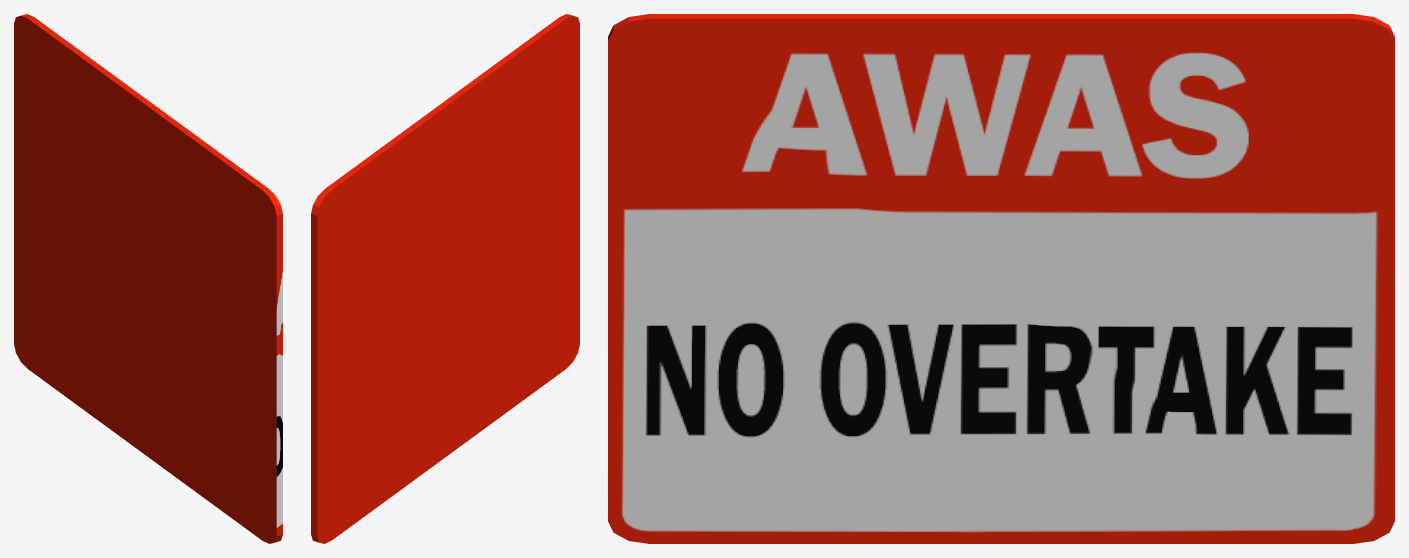
The model's file is noovertake 2.fbx.
3 views of the same model, side by side, from view 1: azimuth 30°, elevation 25°; view 2: azimuth 150°, elevation 25°; view 3: azimuth 270°, elevation 25° (orthographic). The views are drawn at different scales.
Visible parts, largest first — view 1: Cube.031; view 2: Cube.031; view 3: Cube.031.
Part boxes in pixels (x1,y1,x2,y2): Cube.031: (14,14,282,543); Cube.031: (311,14,579,543); Cube.031: (608,14,1394,543).
Size of the model in its own units: 3.99 by 207 by 281.
1 material, 1 textured.
